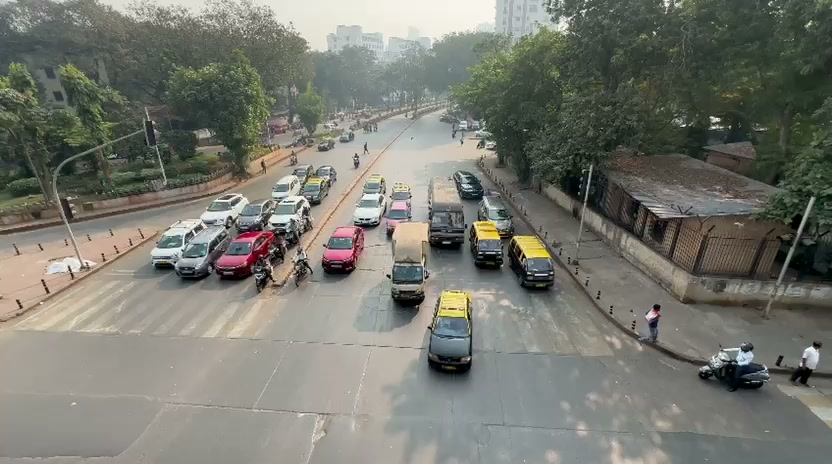car: (426, 288, 474, 373), (212, 229, 283, 280), (173, 224, 232, 279), (150, 220, 207, 270), (507, 235, 555, 289), (321, 225, 365, 274), (265, 203, 311, 240), (201, 193, 249, 228), (390, 262, 428, 306), (235, 201, 278, 231), (352, 195, 384, 227), (452, 170, 483, 200), (236, 203, 267, 232), (300, 176, 330, 205)
motorcycle: (293, 252, 313, 288), (253, 259, 272, 292)
pedestrian: (790, 340, 822, 386), (644, 303, 662, 343), (352, 152, 360, 170)
truck: (390, 221, 431, 302), (427, 178, 467, 248), (507, 234, 555, 289), (470, 220, 504, 269)
